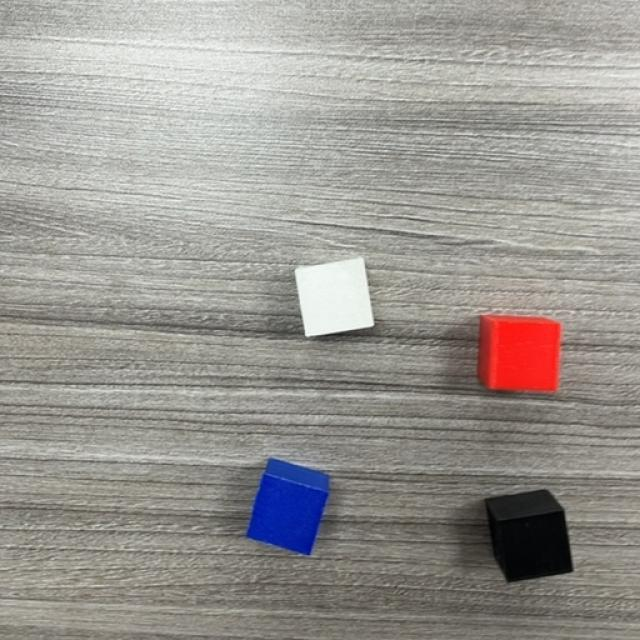Azul: (247, 471, 329, 556)
Blanco: (296, 260, 373, 338)
Negro: (493, 507, 572, 583)
Rojo: (484, 325, 560, 391)
